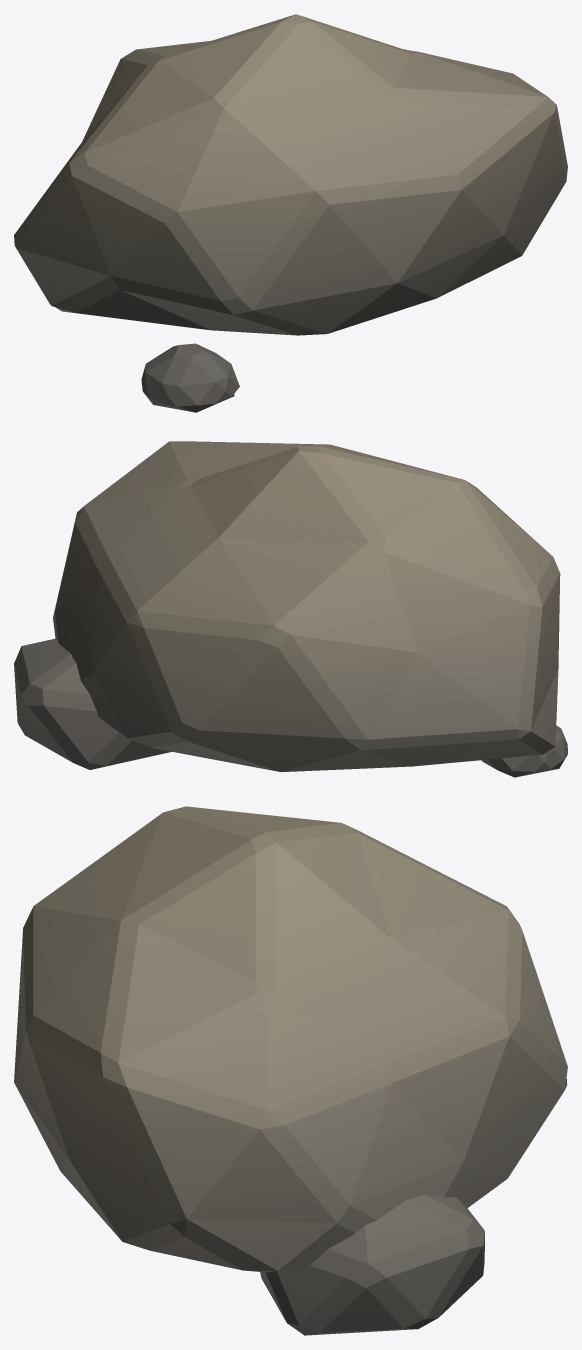
File: rock.glb
3 views of the same model, one above another, from view 1: azimuth 30°, elevation 25°; view 2: azimuth 150°, elevation 25°; view 3: azimuth 270°, elevation 25° (orthographic). The views are drawn at different scales.
Parts seen in each view (by area): view 1: Boulder, Pebble; view 2: Boulder, Boulder chip, Pebble; view 3: Boulder, Boulder chip.
Boxes of the visible parts, x1,y1,x2,y2 form: Boulder: (14,14,567,335); Pebble: (141,343,239,412); Boulder: (53,441,560,772); Boulder chip: (14,638,171,769); Pebble: (482,725,567,777); Boulder: (14,806,567,1272); Boulder chip: (260,1194,484,1335).
Size of the model in its own units: 2.47 by 1.45 by 1.92.
Materials: 1 (1 with a texture image).
